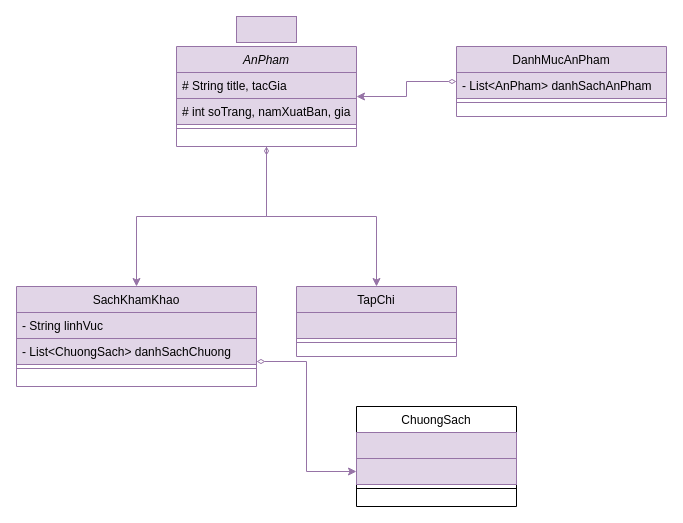
The diagram is 683 pixels wide and 523 high, and some of its shapes have lost their labels. Here are the shapes that lost their labels. From the top down, the centre of each, then its label:
At (x=266, y=29): "Abstract".
At (x=376, y=325): "- String ten".
At (x=436, y=445): "- String tieuDe".
At (x=436, y=471): "- int soTrang".
